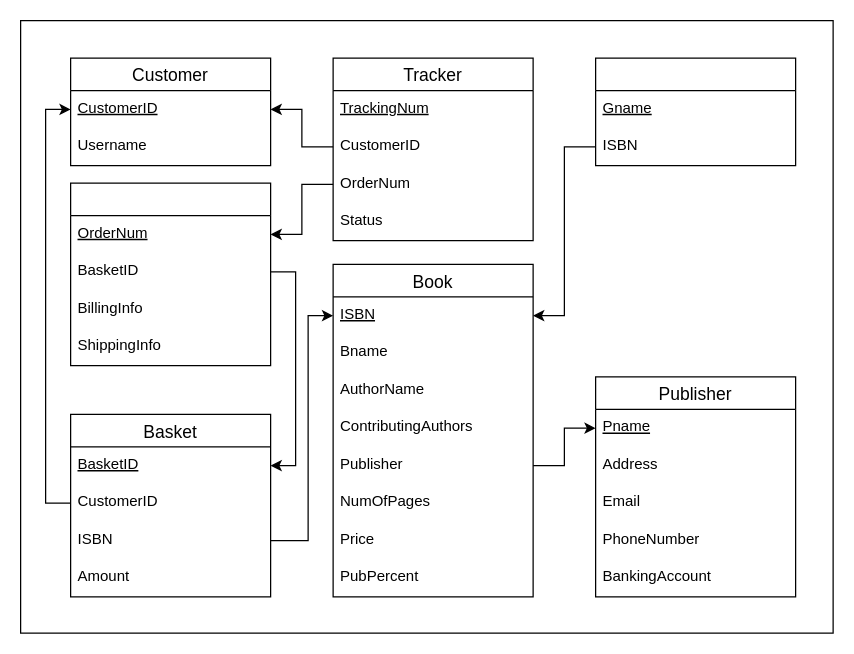
Image size: 854x654. Some labels were removed from this diagram. The shapes that lost their labels are listed below. From the top down, each one's box as (x1, y1, x2, y2) in pixels, then its label:
(594, 57, 796, 166): Genre
(69, 182, 271, 366): BookOrder
